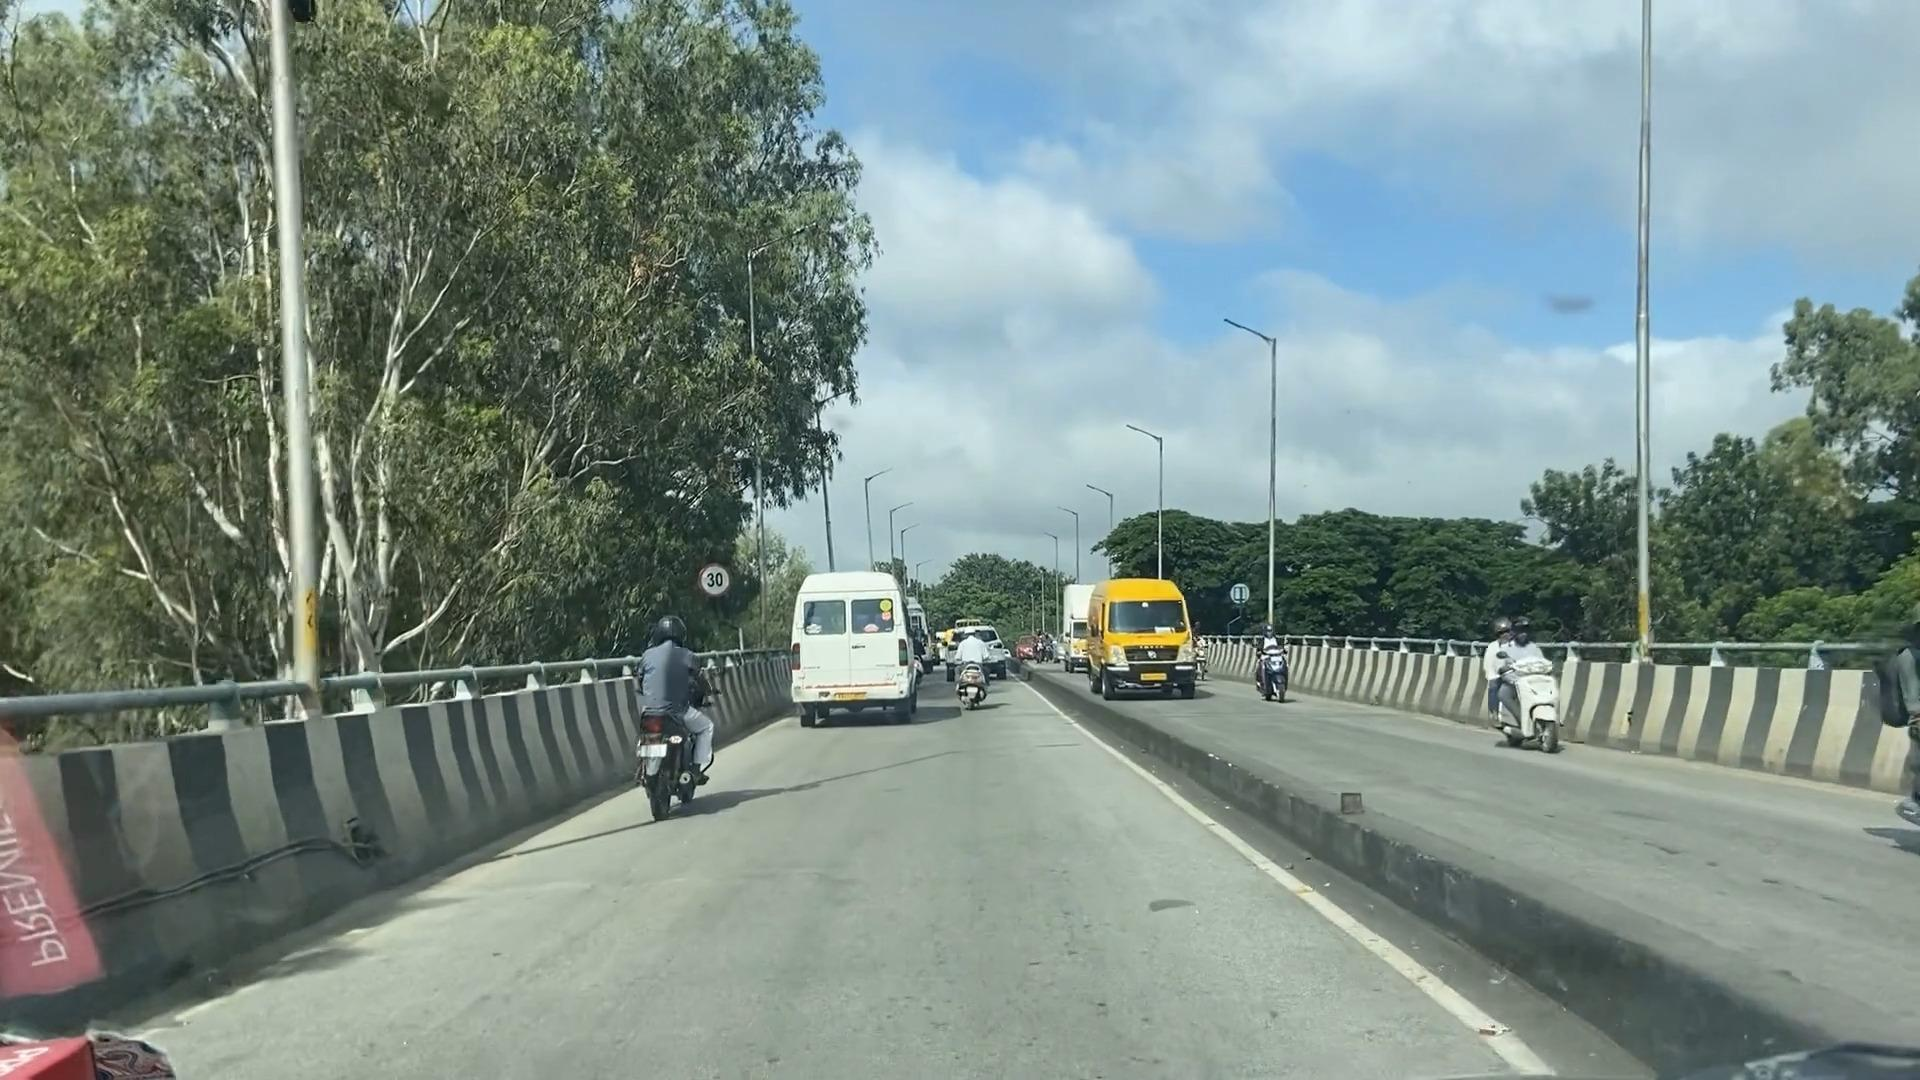HMV: (785, 568, 922, 733)
LMV: (618, 604, 699, 831), (953, 621, 988, 712)
